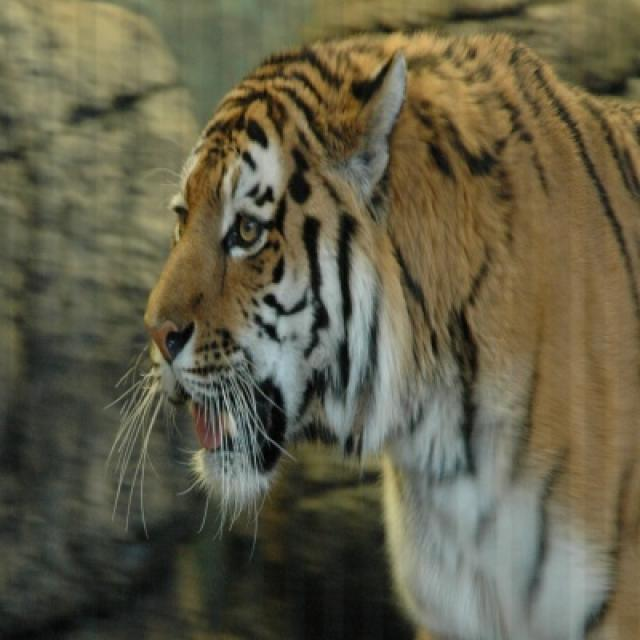Tiger: (142, 29, 638, 638)
